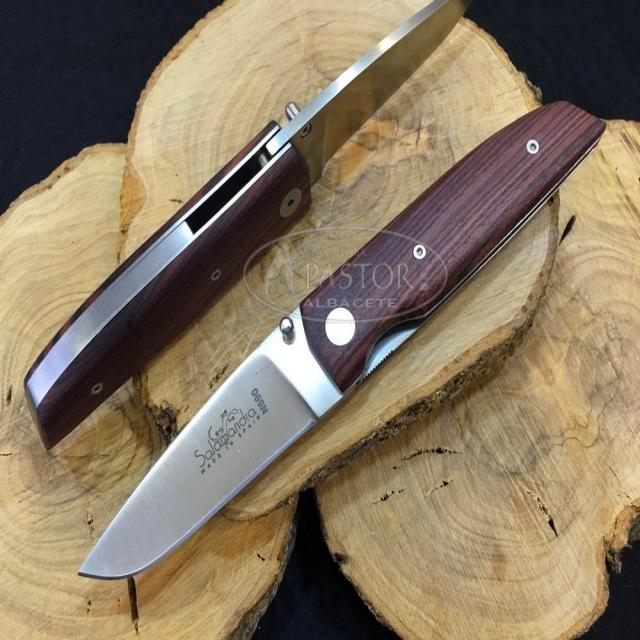knife: (71, 86, 613, 594)
